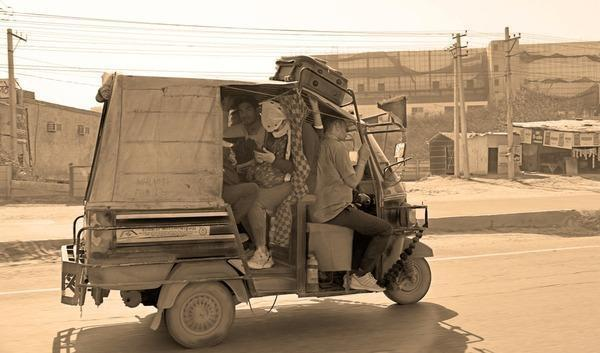keke: (60, 60, 440, 353)
